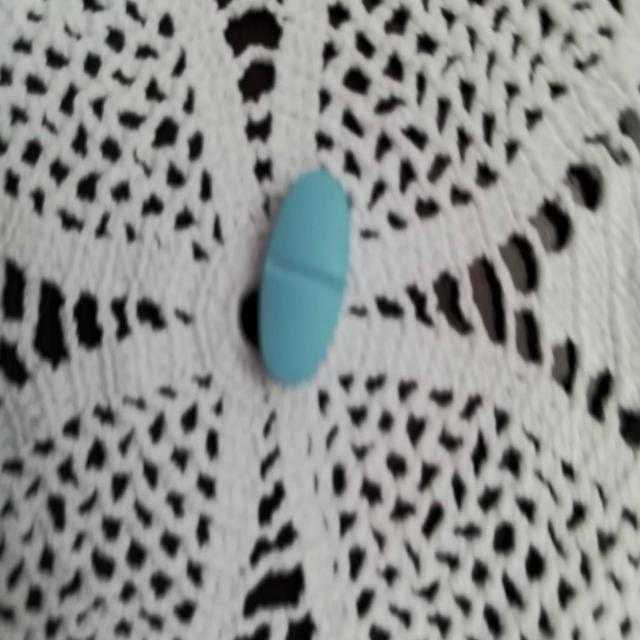pill: (258, 168, 348, 386)
